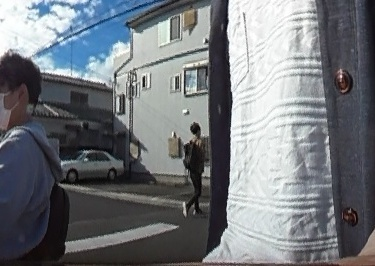person: (180, 121, 208, 214)
